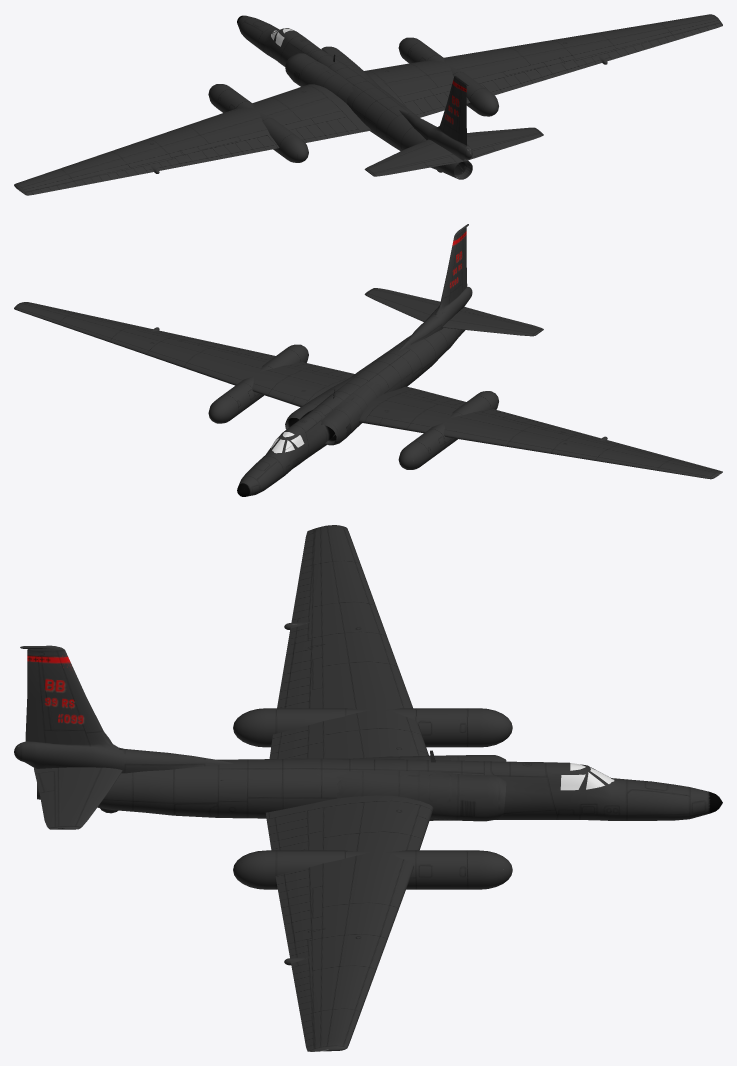
3 renders of one model, top to bottom at view 1: azimuth 30°, elevation 25°; view 2: azimuth 150°, elevation 25°; view 3: azimuth 270°, elevation 25°, orthographic. The views are drawn at different scales.
Visible parts, largest first — view 1: VZ_LEV01-FACES.001; view 2: VZ_LEV01-FACES.001; view 3: VZ_LEV01-FACES.001.
Part boxes in pixels (x1,y1,x2,y2): VZ_LEV01-FACES.001: (14,14,722,195); VZ_LEV01-FACES.001: (14,224,722,496); VZ_LEV01-FACES.001: (14,525,722,1051).
Size of the model in its own units: 3111 by 478 by 1779.
1 material, 1 textured.
